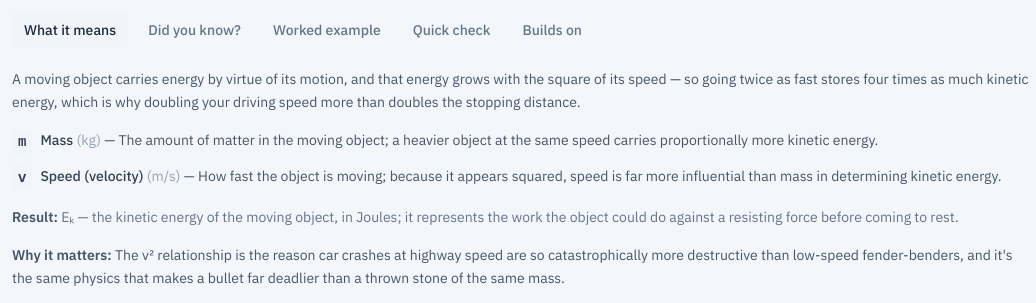
it: LearnMorePanel › shows a tab per available aid and switches panels
Click the tab "Did you know?": (194, 30) x1=136 y1=12 x2=253 y2=48
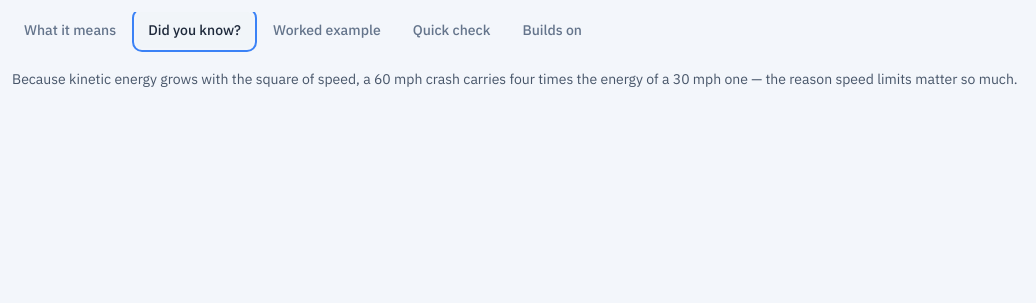
Now the text "four times the energy" is shown, box x1=12 y1=70 x2=1018 y2=88
Note: the worked example shows the substitution steps
Click the tab "Worked example": (327, 30) x1=261 y1=12 x2=393 y2=48
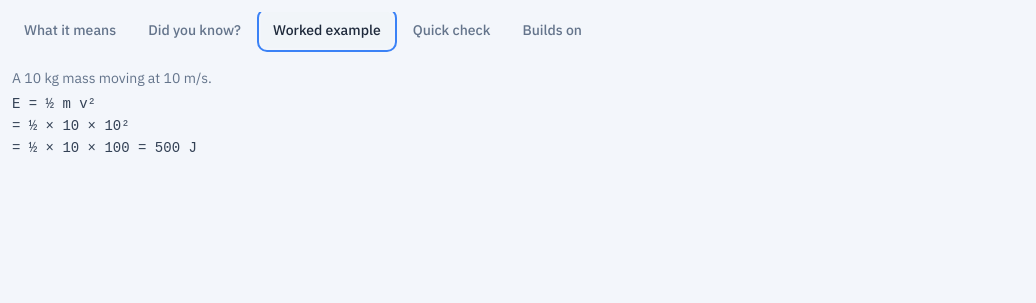
Now the text "= ½ × 10 × 100 = 500 J" is shown, box x1=12 y1=140 x2=197 y2=156
Note: switching reveals the prerequisite link and hides the fact
Click the tab "Builds on": (552, 30) x1=510 y1=12 x2=594 y2=48
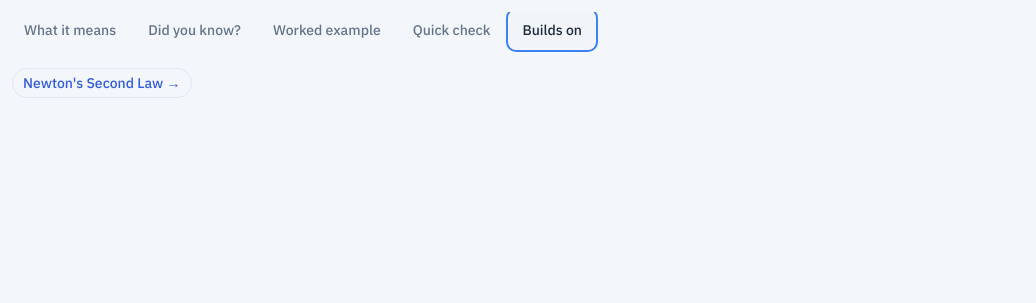
Now the link "Newton's Second Law →" is shown, box x1=12 y1=68 x2=192 y2=98
